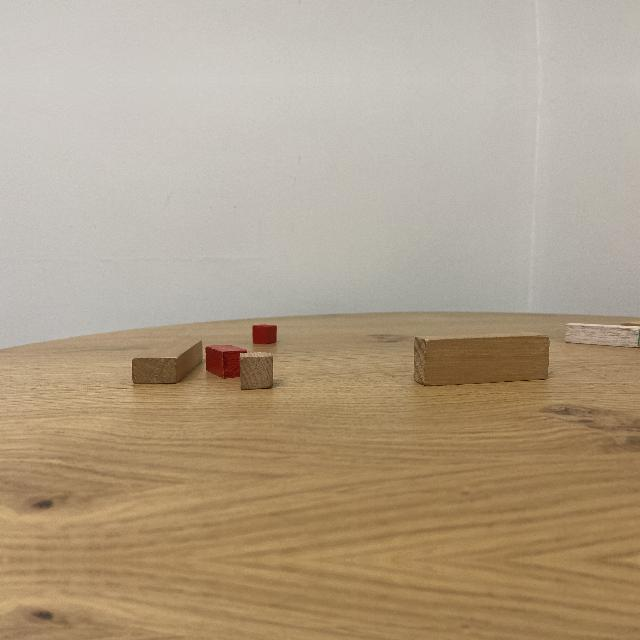block: (564, 323, 640, 348)
cube: (239, 352, 274, 391)
jenga: (412, 336, 551, 388), (132, 340, 203, 384)
red cube: (206, 344, 247, 379), (252, 324, 277, 345)
